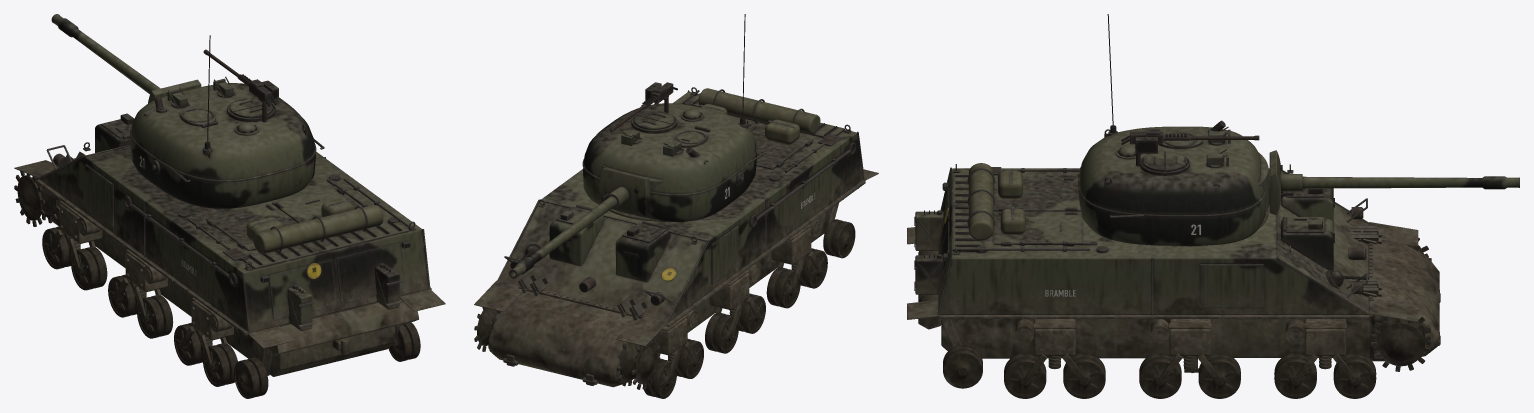
File: sherman.glb
3 renders of one model, left to right at view 1: azimuth 30°, elevation 25°; view 2: azimuth 150°, elevation 25°; view 3: azimuth 270°, elevation 25°, orthographic. The views are drawn at different scales.
Parts seen in each view (by area): view 1: hull, turret_shell, running_gear, gun, wheel_L_6, wheel_L_0, wheel_L_2, wheel_L_7, wheel_L_4, wheel_R_7, wheel_L_5, wheel_L_1 (+1 smaller); view 2: hull, turret_shell, running_gear, gun, wheel_L_6, wheel_L_5, wheel_L_3, wheel_L_7, wheel_L_1, wheel_L_2, wheel_L_4, wheel_L_0 (+1 smaller); view 3: hull, turret_shell, running_gear, gun, wheel_R_6, wheel_R_1, wheel_R_5, wheel_R_2, wheel_R_3, wheel_R_4, wheel_R_0, wheel_R_7.
Part boxes in pixels (x1=…): hull: x1=14, y1=113, x2=445, y2=376; turret_shell: x1=130, y1=35, x2=324, y2=208; running_gear: x1=48, y1=201, x2=233, y2=367; gun: x1=51, y1=14, x2=201, y2=103; wheel_L_6: x1=14, y1=171, x2=59, y2=226; wheel_L_0: x1=71, y1=246, x2=107, y2=290; wheel_L_2: x1=137, y1=294, x2=173, y2=338; wheel_L_7: x1=234, y1=357, x2=268, y2=398; wheel_L_4: x1=203, y1=343, x2=237, y2=386; wheel_R_7: x1=388, y1=322, x2=420, y2=361; wheel_L_5: x1=174, y1=322, x2=203, y2=365; wheel_L_1: x1=42, y1=226, x2=71, y2=269; hull: x1=474, y1=87, x2=878, y2=387; turret_shell: x1=582, y1=14, x2=765, y2=221; running_gear: x1=651, y1=219, x2=821, y2=381; gun: x1=509, y1=168, x2=649, y2=278; wheel_L_6: x1=617, y1=338, x2=660, y2=389; wheel_L_5: x1=766, y1=267, x2=800, y2=308; wheel_L_3: x1=705, y1=312, x2=738, y2=353; wheel_L_7: x1=823, y1=219, x2=855, y2=258; wheel_L_1: x1=644, y1=358, x2=676, y2=398; wheel_L_2: x1=738, y1=293, x2=765, y2=333; wheel_L_4: x1=799, y1=248, x2=827, y2=288; wheel_L_0: x1=676, y1=339, x2=703, y2=378; hull: x1=907, y1=163, x2=1440, y2=361; turret_shell: x1=1078, y1=14, x2=1269, y2=246; running_gear: x1=1015, y1=319, x2=1357, y2=382; gun: x1=1269, y1=150, x2=1519, y2=214; wheel_R_6: x1=1371, y1=316, x2=1430, y2=371; wheel_R_1: x1=1333, y1=353, x2=1376, y2=398; wheel_R_5: x1=1063, y1=353, x2=1105, y2=398; wheel_R_2: x1=1139, y1=353, x2=1181, y2=398; wheel_R_3: x1=1198, y1=353, x2=1240, y2=398; wheel_R_4: x1=1004, y1=353, x2=1046, y2=398; wheel_R_0: x1=1274, y1=353, x2=1316, y2=398; wheel_R_7: x1=943, y1=345, x2=982, y2=388.
Size of what is drawn, in the model's own units: 2.65 by 4.36 by 7.34.
Materials: 1 (1 with a texture image).
